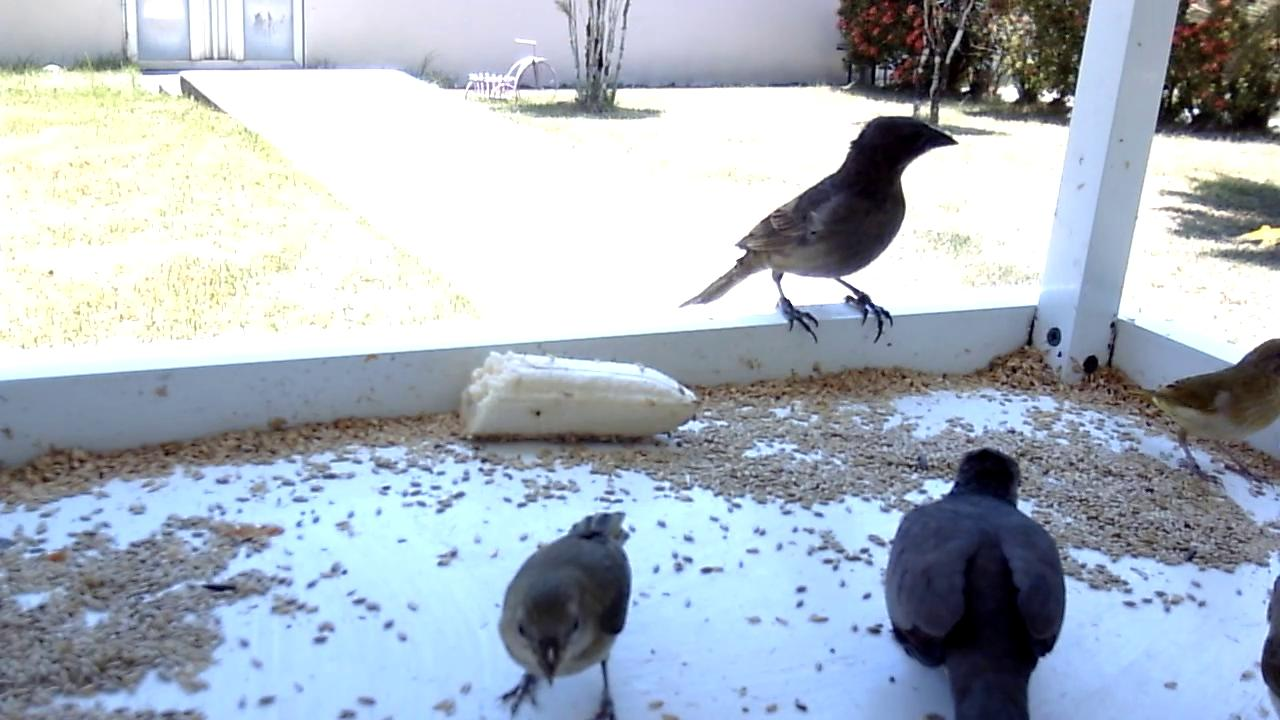canario_do_amazonas: (489, 508, 640, 720), (1128, 337, 1280, 489)
chupim: (676, 115, 962, 347)
rolinha: (884, 444, 1070, 720)
